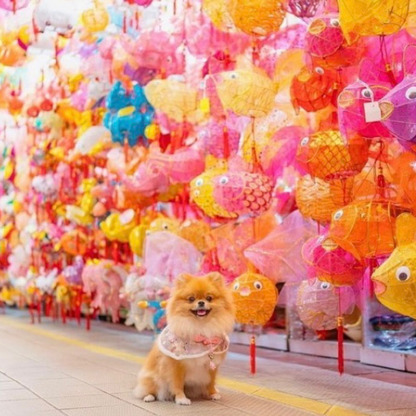Pomeranian: (127, 266, 253, 403)
